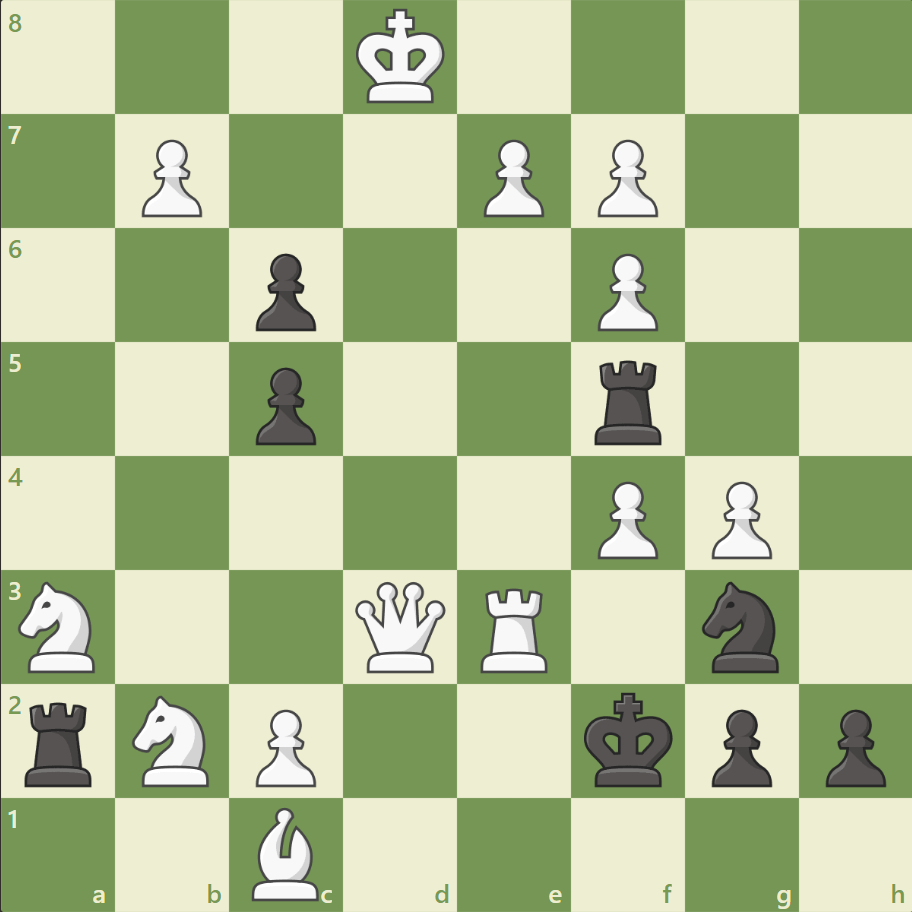B: (244, 801, 328, 904)
K: (351, 4, 451, 112)
N: (124, 688, 222, 791), (11, 575, 108, 677)
P: (133, 132, 208, 223), (474, 132, 549, 223), (701, 473, 776, 564), (247, 700, 322, 791), (588, 132, 662, 223), (588, 246, 662, 337), (588, 473, 662, 564)
Q: (351, 576, 450, 676)
R: (473, 579, 556, 676)
k: (579, 685, 679, 793)
n: (692, 575, 789, 677)
p: (247, 246, 322, 337), (247, 359, 322, 450), (701, 700, 776, 791), (815, 700, 889, 791)
r: (587, 352, 670, 449), (19, 693, 102, 790)
